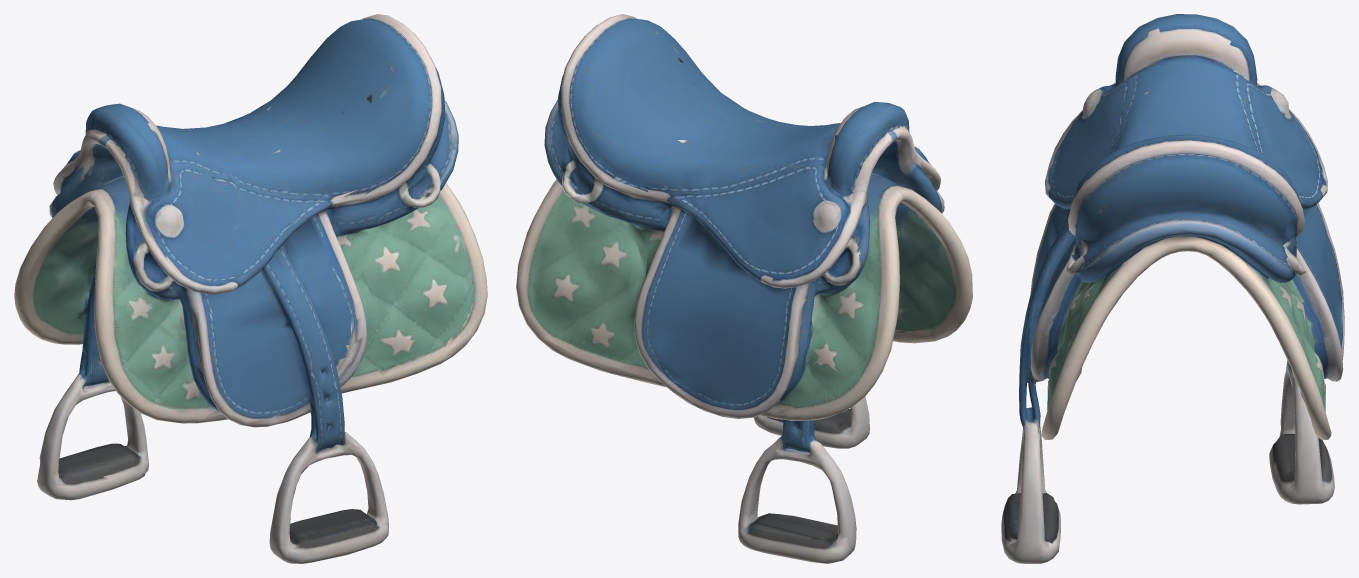
The picture shows the model from 3 angles, left to right: view 1: azimuth 30°, elevation 25°; view 2: azimuth 150°, elevation 25°; view 3: azimuth 270°, elevation 25°; orthographic projection. The views are drawn at different scales.
Visible parts, largest first — view 1: saddle-blue; view 2: saddle-blue; view 3: saddle-blue.
Boxes of the visible parts, box(x1,y1,x2,y2) form: saddle-blue: box(14, 14, 487, 563); saddle-blue: box(516, 14, 972, 563); saddle-blue: box(1001, 14, 1344, 563).
Size of the model in its own units: 0.3745 by 0.4233 by 0.2786.
Materials: 1 (1 with a texture image).
